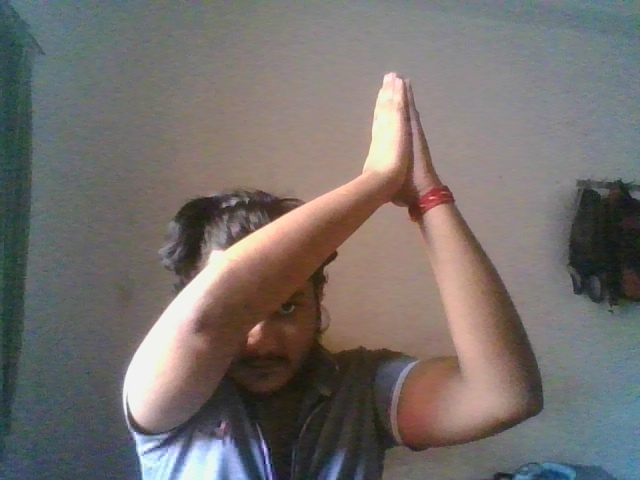ThankYou: (364, 71, 432, 207)
